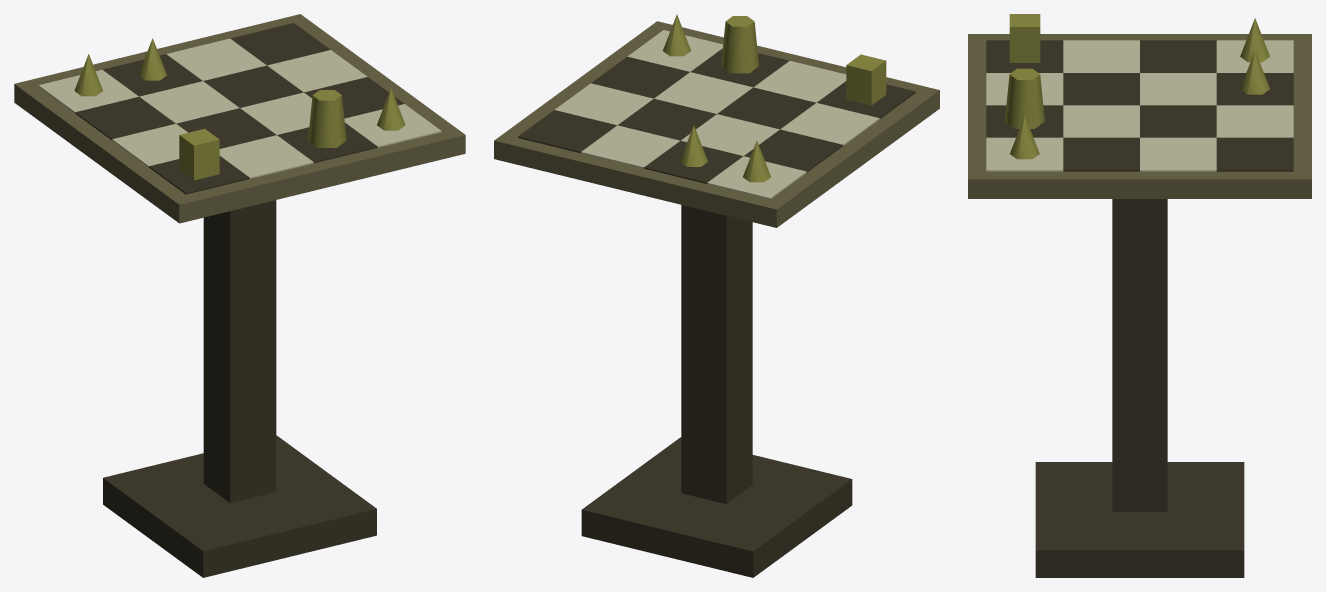
Rendered from village_chess.glb.
3 views of the same model, side by side, from view 1: azimuth 30°, elevation 25°; view 2: azimuth 150°, elevation 25°; view 3: azimuth 270°, elevation 25° (orthographic). The views are drawn at different scales.
Visible parts, largest first — view 1: ch_pedestal, ch_foot, ch_frame, ch_sq_13, ch_sq_01, ch_sq_20, ch_sq_21, ch_sq_30, ch_sq_11, ch_sq_31, ch_sq_12, ch_sq_33 (+12 smaller); view 2: ch_pedestal, ch_foot, ch_frame, ch_sq_20, ch_sq_30, ch_sq_02, ch_sq_22, ch_sq_32, ch_sq_12, ch_sq_31, ch_sq_21, ch_sq_13 (+12 smaller); view 3: ch_foot, ch_pedestal, ch_frame, ch_sq_30, ch_sq_31, ch_sq_32, ch_sq_20, ch_sq_01, ch_sq_02, ch_sq_11, ch_sq_12, ch_sq_21 (+12 smaller).
Boxes of the visible parts, bbox=[...] form: ch_pedestal: bbox=[203, 200, 276, 503]; ch_foot: bbox=[103, 435, 376, 577]; ch_frame: bbox=[14, 14, 465, 223]; ch_sq_13: bbox=[219, 135, 313, 178]; ch_sq_01: bbox=[75, 97, 175, 140]; ch_sq_20: bbox=[166, 38, 266, 80]; ch_sq_21: bbox=[203, 65, 303, 107]; ch_sq_30: bbox=[230, 23, 330, 65]; ch_sq_11: bbox=[139, 81, 239, 123]; ch_sq_31: bbox=[267, 50, 367, 92]; ch_sq_12: bbox=[176, 108, 276, 148]; ch_sq_33: bbox=[344, 104, 441, 147]; ch_pedestal: bbox=[681, 205, 752, 503]; ch_foot: bbox=[581, 437, 852, 577]; ch_frame: bbox=[494, 21, 939, 227]; ch_sq_20: bbox=[581, 125, 679, 168]; ch_sq_30: bbox=[518, 110, 616, 153]; ch_sq_02: bbox=[780, 103, 879, 145]; ch_sq_22: bbox=[654, 72, 752, 113]; ch_sq_32: bbox=[591, 56, 689, 98]; ch_sq_12: bbox=[717, 87, 815, 129]; ch_sq_31: bbox=[555, 83, 653, 125]; ch_sq_21: bbox=[618, 98, 716, 140]; ch_sq_13: bbox=[754, 61, 846, 102]; ch_foot: bbox=[1035, 462, 1244, 577]; ch_pedestal: bbox=[1112, 199, 1167, 511]; ch_frame: bbox=[968, 34, 1311, 198]; ch_sq_30: bbox=[1216, 137, 1293, 171]; ch_sq_31: bbox=[1140, 137, 1216, 171]; ch_sq_32: bbox=[1063, 137, 1139, 171]; ch_sq_20: bbox=[1216, 105, 1293, 137]; ch_sq_01: bbox=[1140, 40, 1216, 72]; ch_sq_02: bbox=[1063, 40, 1139, 72]; ch_sq_11: bbox=[1140, 73, 1216, 105]; ch_sq_12: bbox=[1063, 73, 1139, 105]; ch_sq_21: bbox=[1140, 105, 1216, 137].
Bounding box in the file's own units: 0.56 × 0.855 × 0.56.
